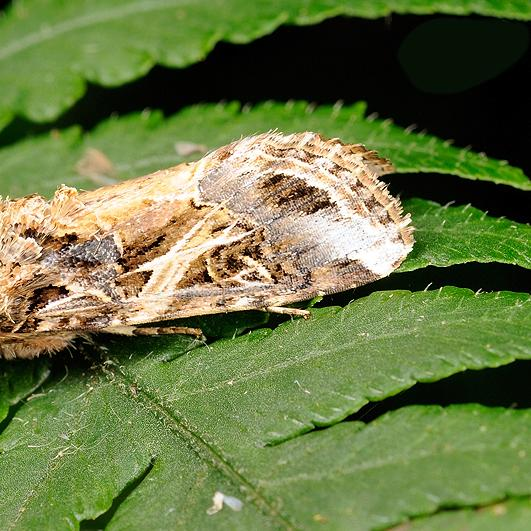Spodoptera litura: (1, 128, 417, 360)
